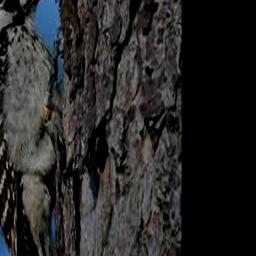Woodpecker: (0, 0, 85, 256)
